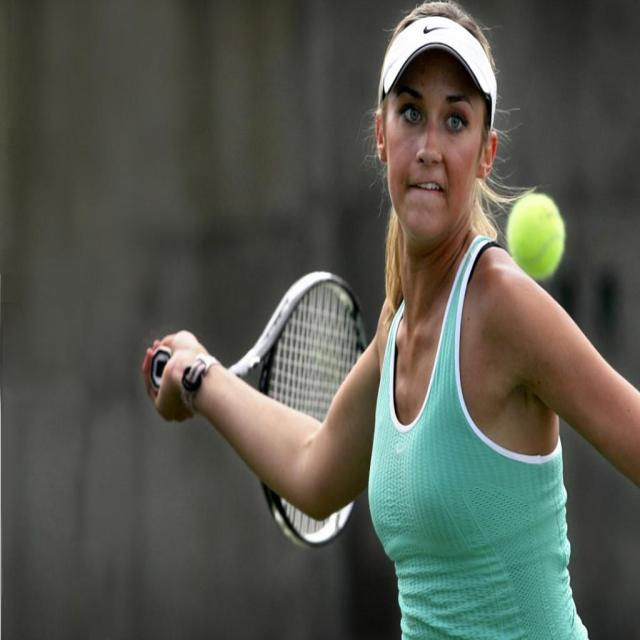Face: (382, 60, 489, 249)
